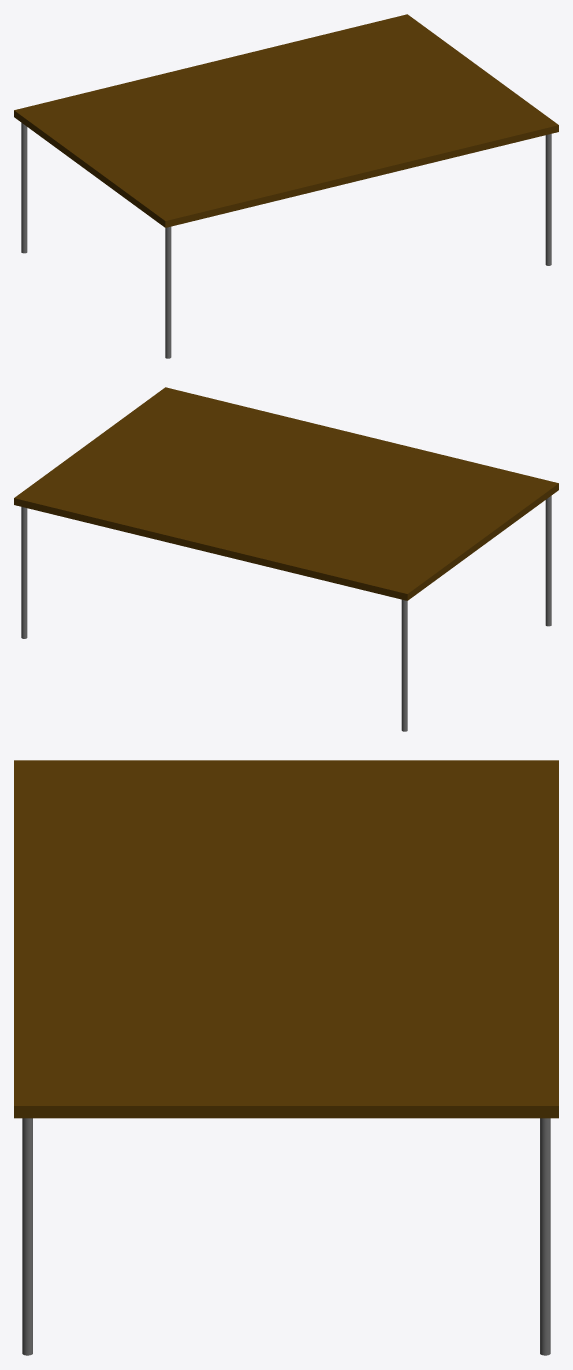
File: table.fbx
3 renders of one model, top to bottom at view 1: azimuth 30°, elevation 25°; view 2: azimuth 150°, elevation 25°; view 3: azimuth 270°, elevation 25°, orthographic. The views are drawn at different scales.
Visible parts, largest first — view 1: Cylinder; view 2: Cylinder; view 3: Cylinder.
Part boxes in pixels (bbox=[...]): Cylinder: bbox=[14, 14, 558, 358]; Cylinder: bbox=[14, 387, 558, 731]; Cylinder: bbox=[14, 760, 558, 1355].
Size of the model in its own units: 300 by 103 by 200.
